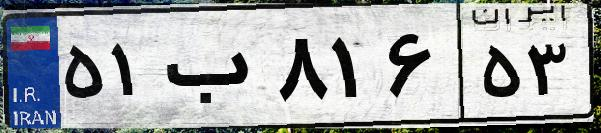1: (330, 28, 385, 110), (110, 28, 158, 98)
3: (525, 38, 570, 115)
5: (57, 26, 110, 100), (475, 38, 525, 113)
6: (385, 28, 445, 110)
8: (270, 28, 330, 110)
ب: (158, 20, 270, 120)
